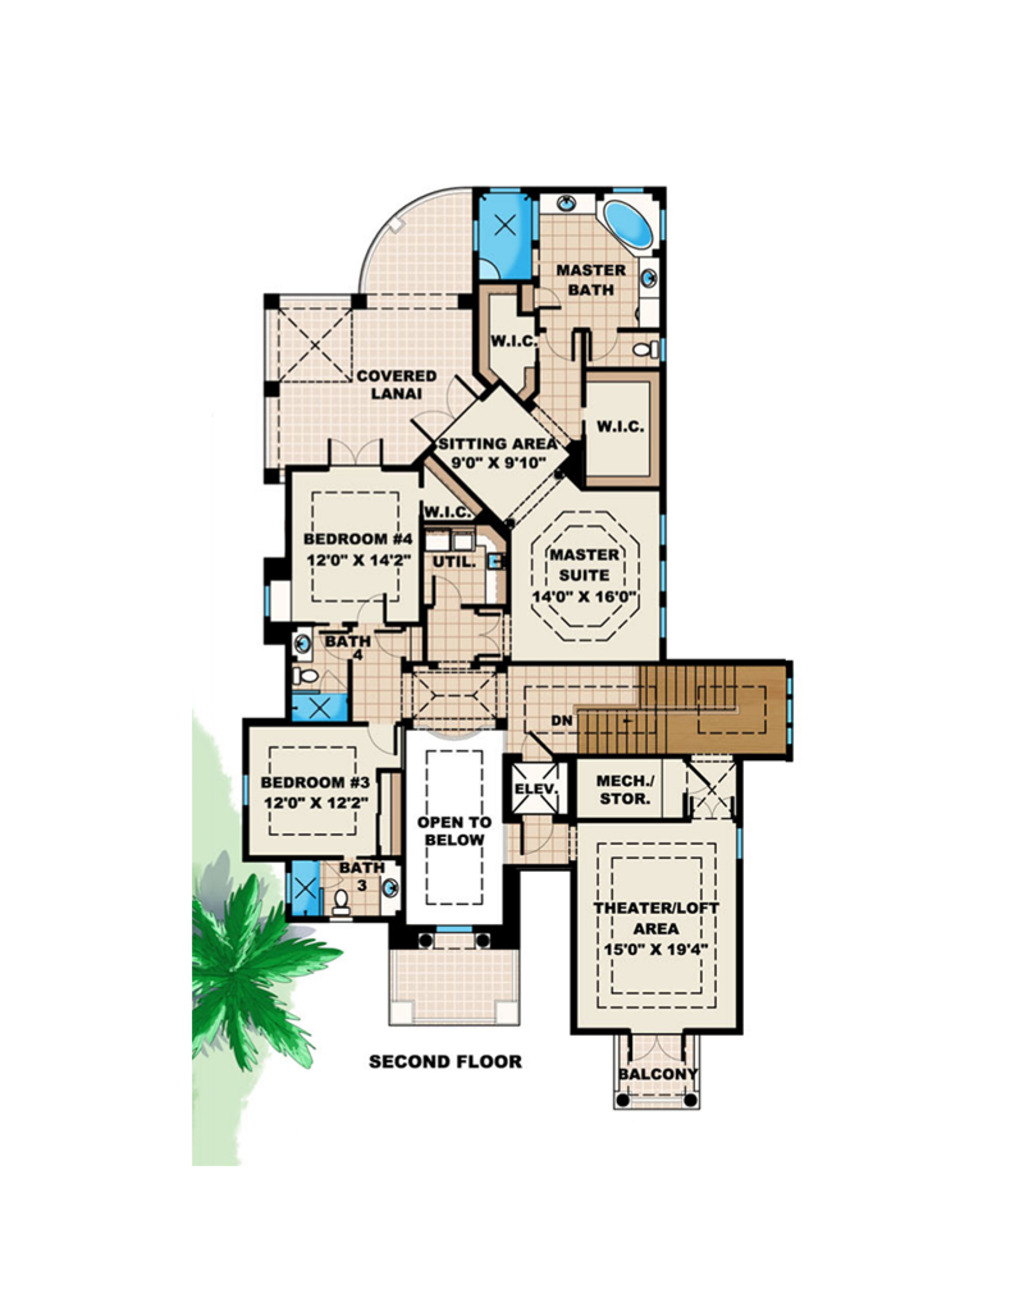door: (415, 378, 478, 436), (323, 437, 384, 473), (516, 811, 560, 858), (583, 325, 623, 368), (426, 572, 469, 610), (622, 1037, 687, 1062), (541, 326, 577, 361), (353, 587, 385, 626), (367, 721, 397, 755)
large_sink: (317, 883, 356, 921), (627, 330, 662, 362)
small_sink: (534, 187, 598, 222), (284, 621, 316, 665), (638, 255, 662, 310), (380, 860, 402, 919)
stairs: (563, 666, 791, 758)
tub: (602, 198, 656, 251)
